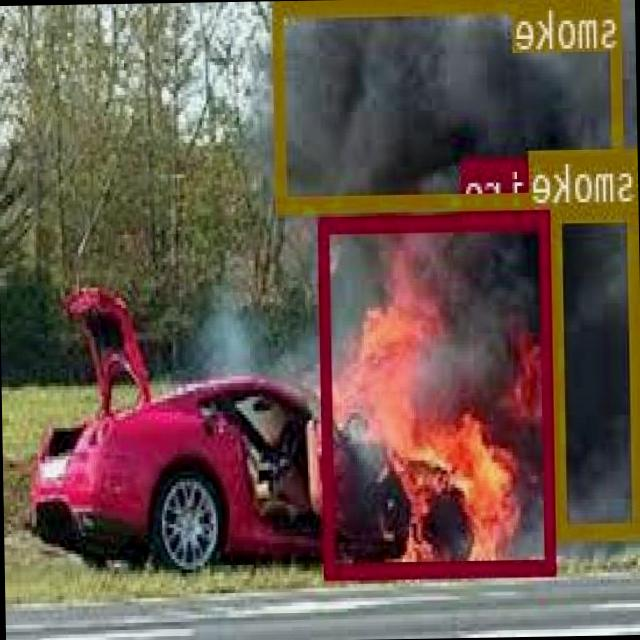fire: (321, 211, 557, 577)
smoke: (274, 0, 625, 210), (554, 202, 640, 535)
